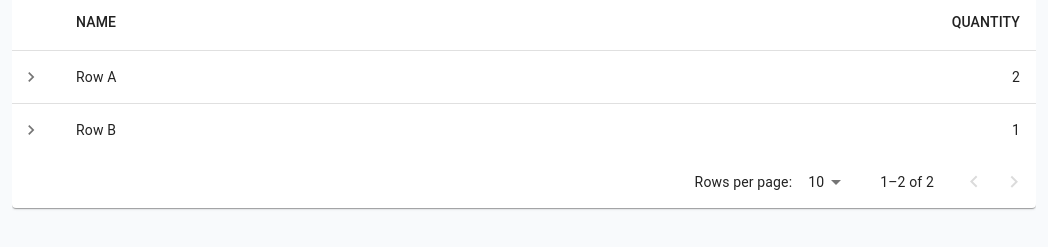
Test: DataTable › expandable rows: clicking toggle reveals renderExpanded content
This screenshot has width=1048, height=247.
Expected: the text "details for Row A" is not shown
Click the button named "expand row" next to "Row A": click(31, 77) [16, 62, 46, 92]
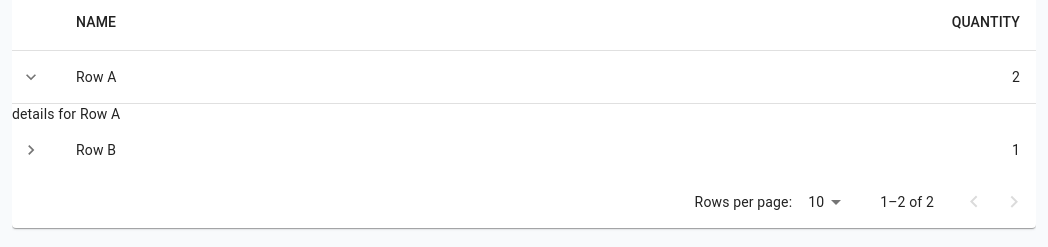
Expected: the text "details for Row A" is shown, [12, 106, 120, 122]
